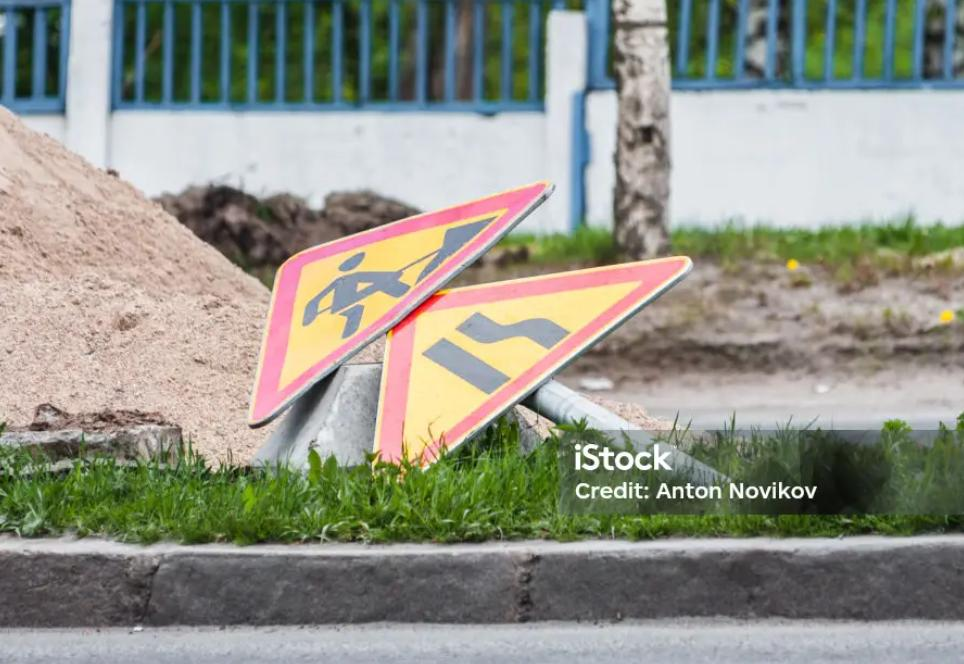road_sign: (248, 178, 552, 427), (372, 255, 691, 486)
